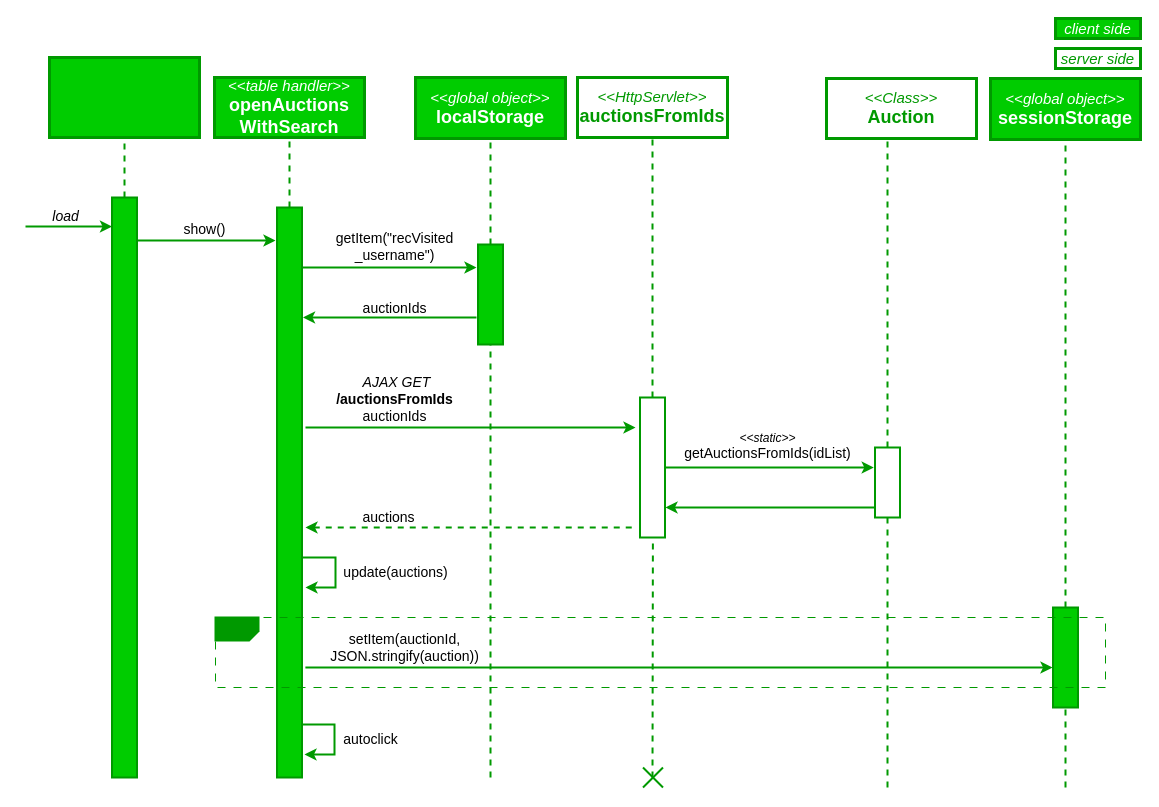
Some shapes in this 1159 by 807 pixel diagram are drawn without their labels. The shapes that lost their labels are listed below. From the top down, each one's box as (x1, y1, x2, y2) in pixels, then its label:
(48, 56, 200, 138): <<page load>> home.html buy.js
(214, 616, 259, 641): loop
